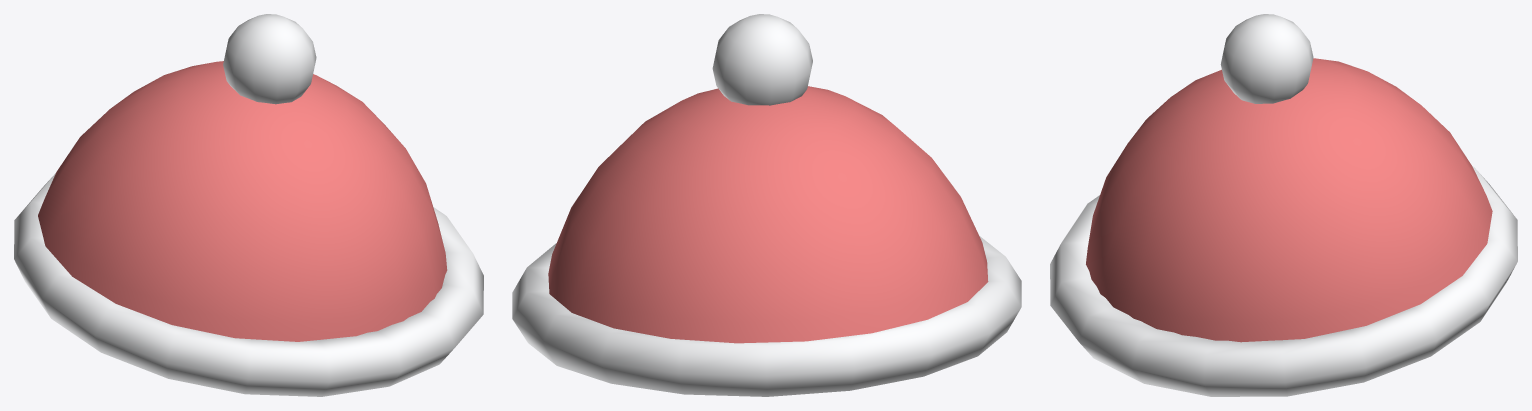
Rendered from RedHat.fbx.
The picture shows the model from 3 angles, left to right: view 1: azimuth 30°, elevation 25°; view 2: azimuth 150°, elevation 25°; view 3: azimuth 270°, elevation 25°; orthographic projection. The views are drawn at different scales.
Visible parts, largest first — view 1: RedHat; view 2: RedHat; view 3: RedHat.
Part boxes in pixels (x1,y1,x2,y2): RedHat: (14,14,483,396); RedHat: (512,14,1021,396); RedHat: (1050,14,1517,396).
Size of the model in its own units: 1.51 by 1.05 by 1.49.
